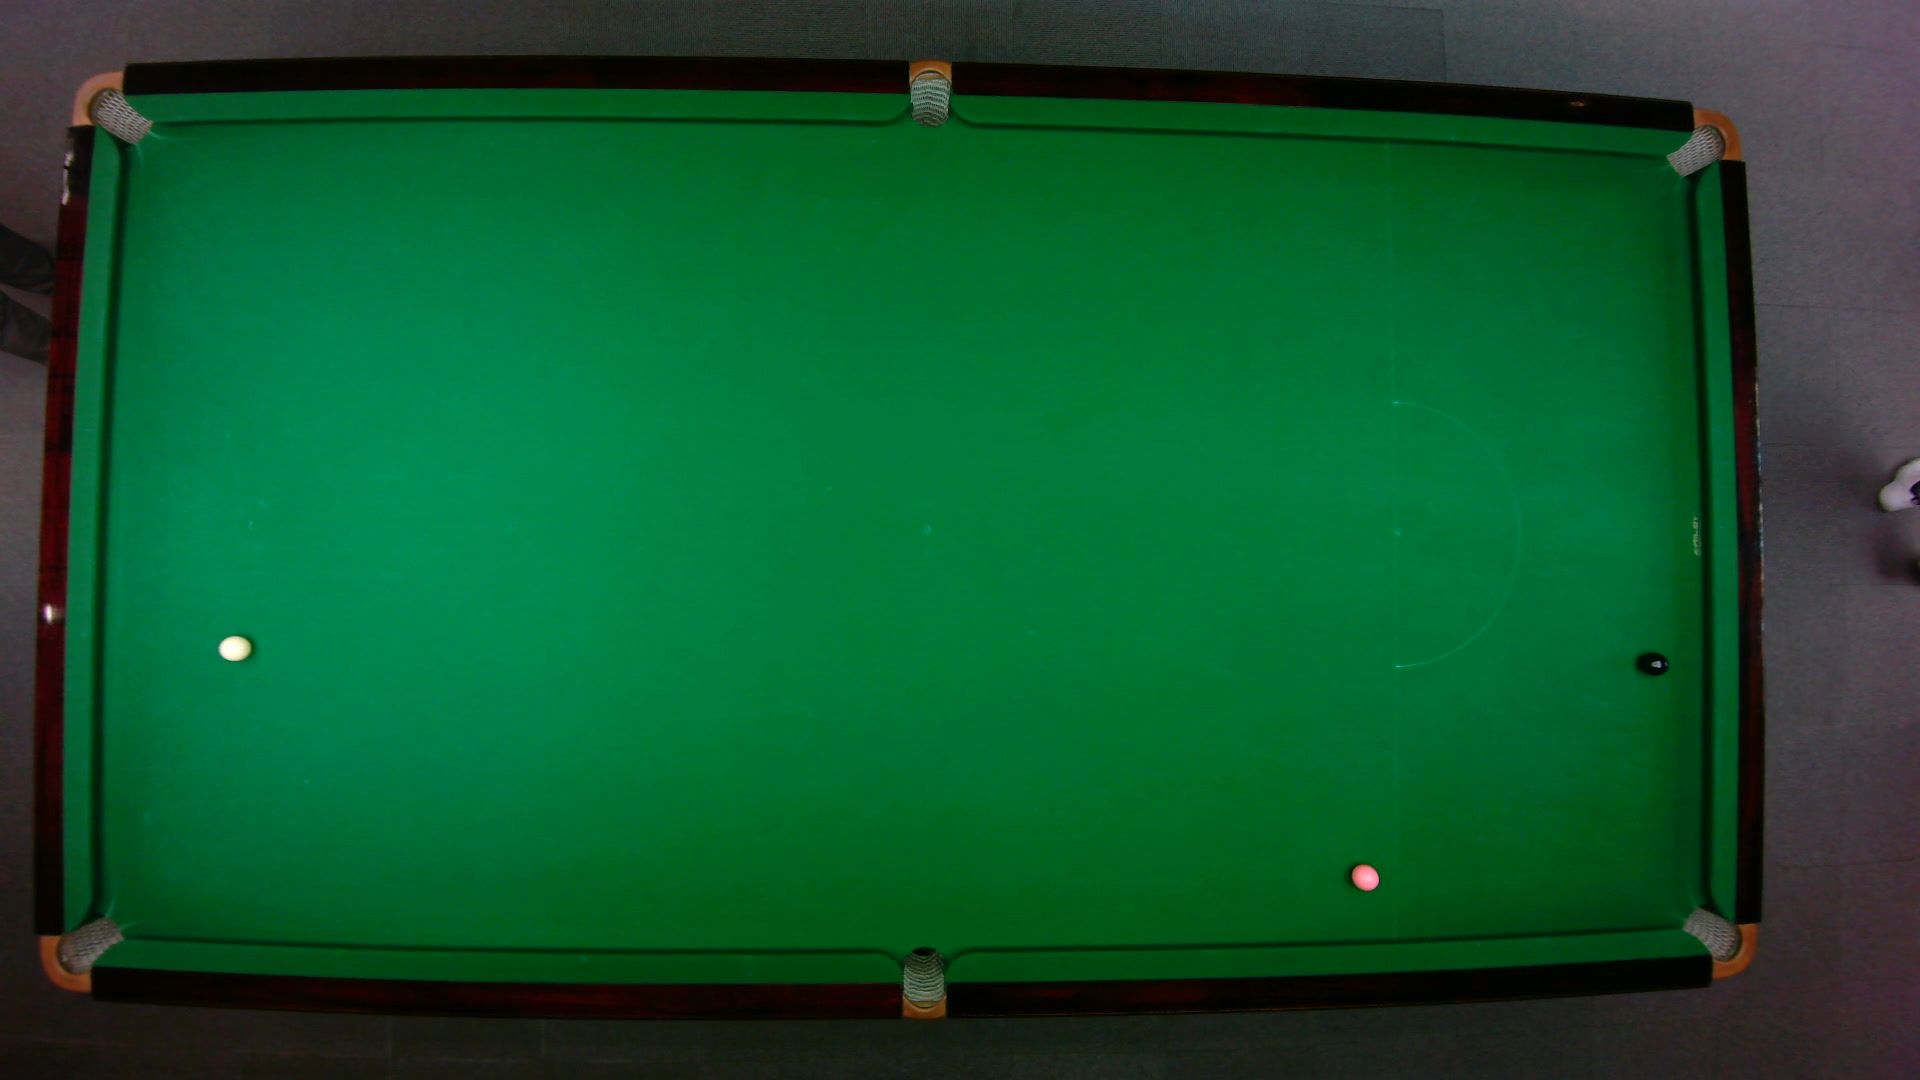bag: (37, 914, 125, 992), (69, 69, 153, 144), (1677, 905, 1756, 978), (1663, 107, 1741, 177), (901, 944, 944, 1021), (909, 57, 949, 128)
black: (1640, 650, 1669, 676)
pink: (1349, 861, 1379, 891)
white: (216, 633, 253, 661)
zone: (1391, 400, 1520, 669)
